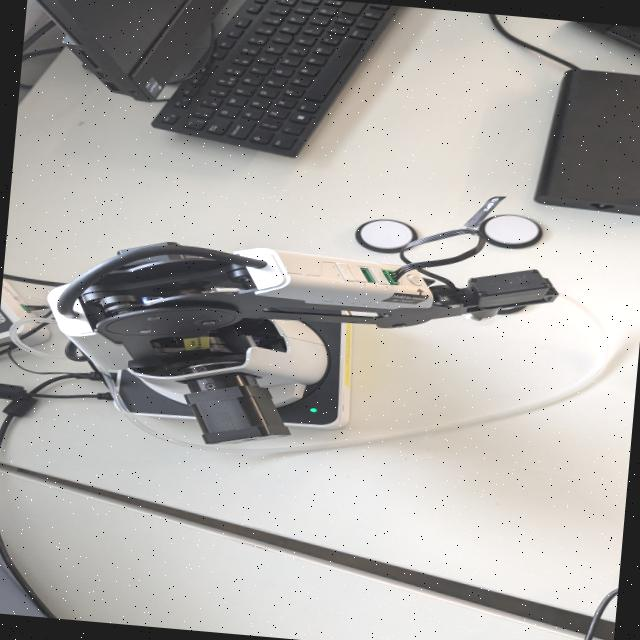Robot-end-effector-HF8z: (458, 259, 562, 334)
